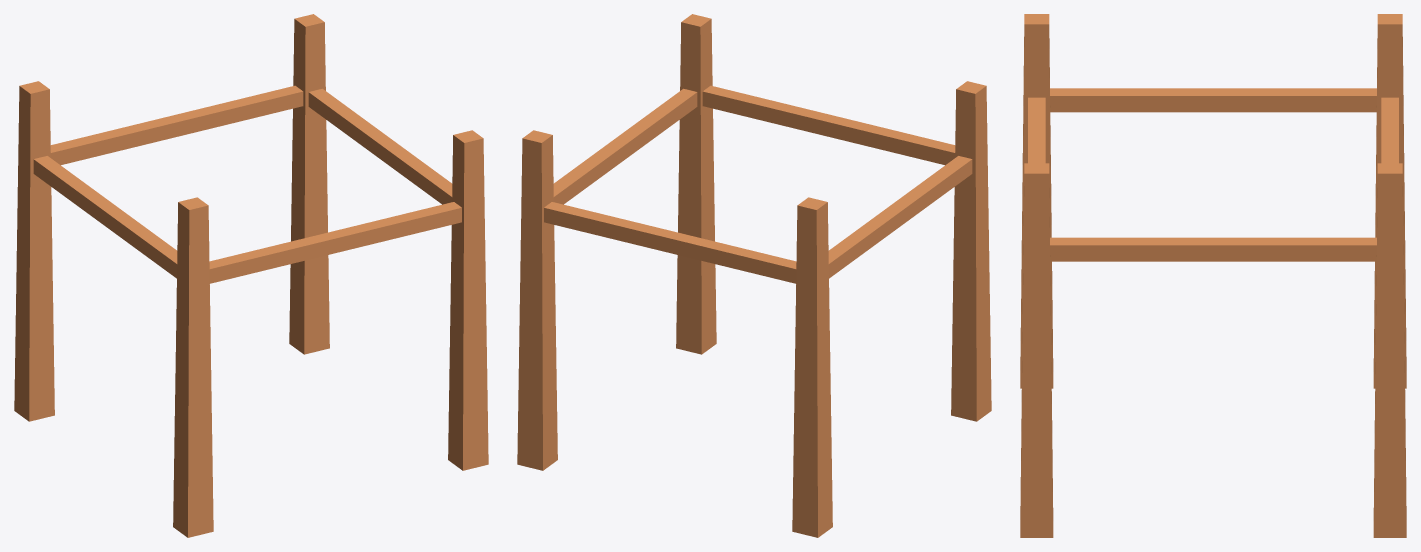
File: structure.obj
The picture shows the model from 3 angles, left to right: view 1: azimuth 30°, elevation 25°; view 2: azimuth 150°, elevation 25°; view 3: azimuth 270°, elevation 25°; orthographic projection. The views are drawn at different scales.
Parts seen in each view (by area): view 1: structure; view 2: structure; view 3: structure.
Part boxes in pixels (x1,y1,x2,y2): structure: (14,14,488,537); structure: (517,14,991,537); structure: (1020,14,1406,537).
Size of the model in its own units: 2 by 2.07 by 2.
